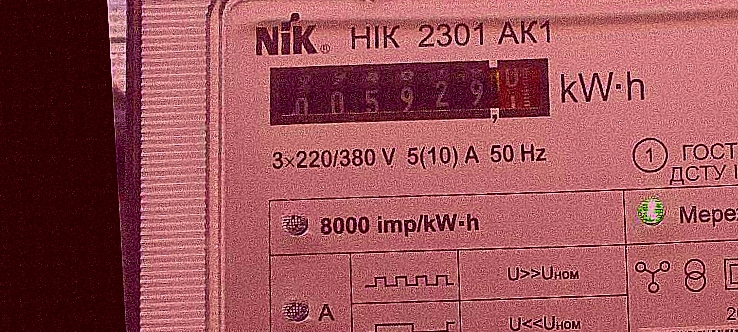0: (327, 87, 347, 116), (290, 91, 312, 116), (502, 65, 522, 89)
2: (430, 77, 451, 111)
5: (362, 86, 381, 115)
9: (466, 76, 487, 109), (395, 83, 417, 114), (294, 71, 313, 90)
screen: (260, 46, 559, 141)
